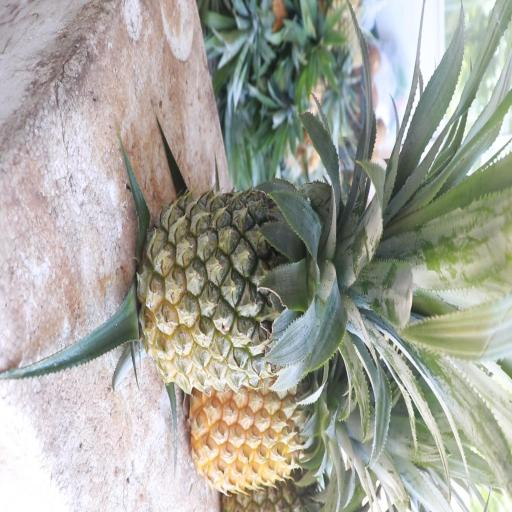------------------------------: (143, 188, 350, 387)
Pineapple - v8 v1: (190, 367, 316, 491)
